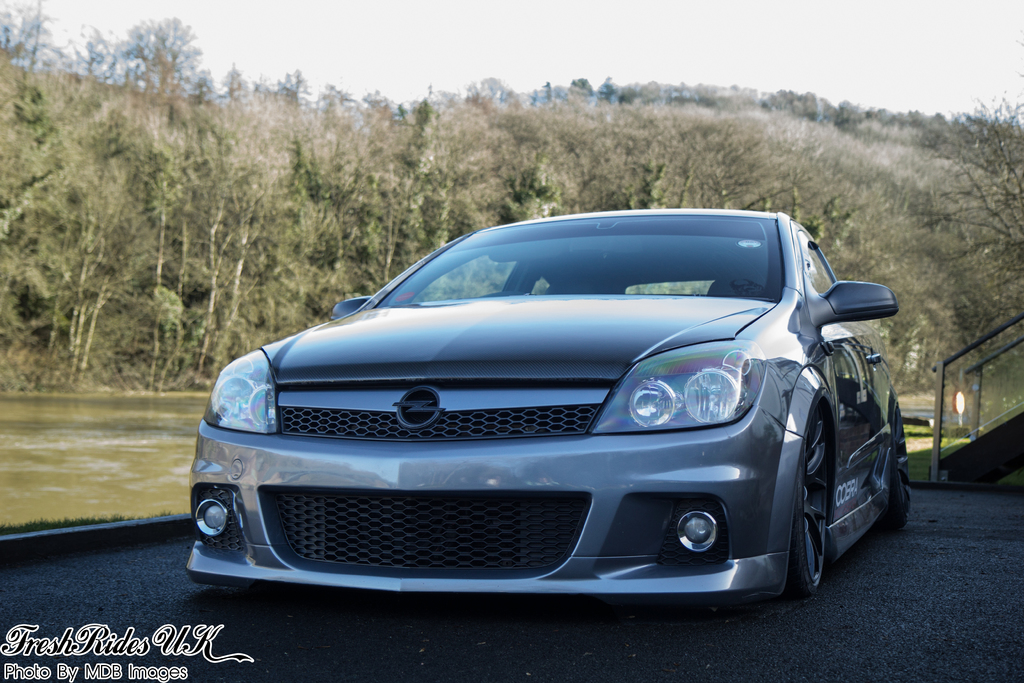Car: (186, 206, 917, 621)
